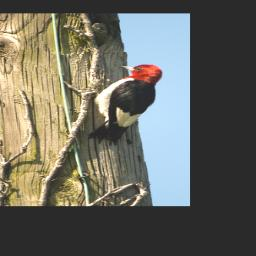Woodpecker: (76, 64, 164, 146)
